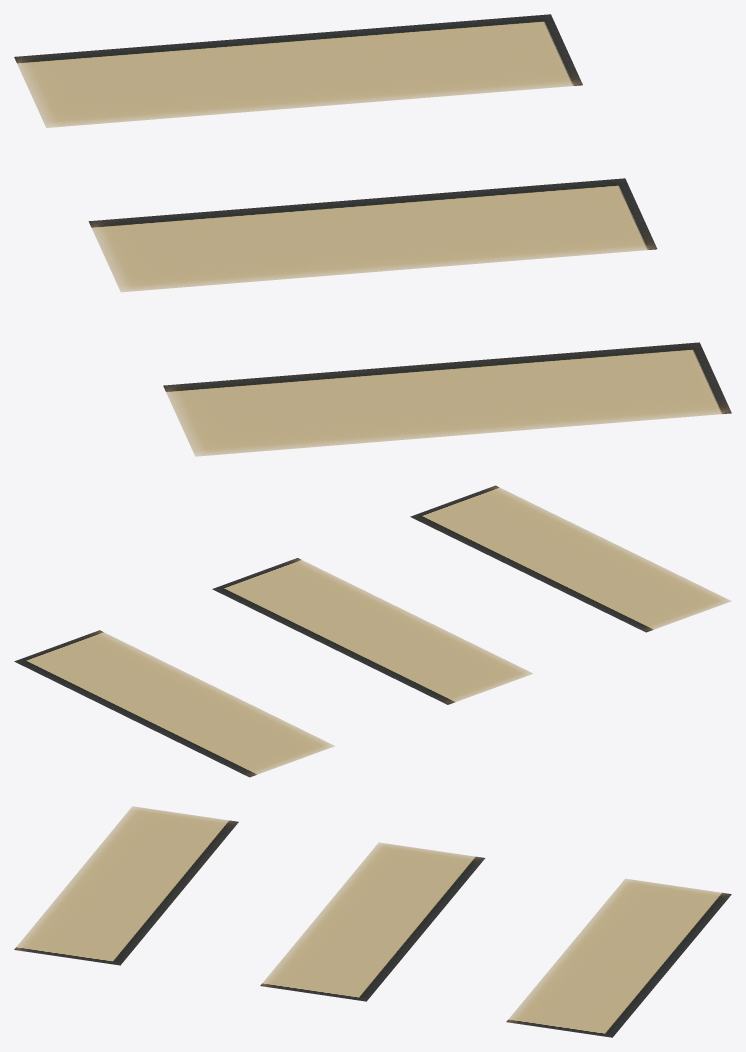
The model's file is Rooft_Top_Green_01.fbx.
The picture shows the model from 3 angles, top to bottom: view 1: azimuth 30°, elevation 25°; view 2: azimuth 150°, elevation 25°; view 3: azimuth 270°, elevation 25°; orthographic projection. The views are drawn at different scales.
Visible parts, largest first — view 1: Rooft_Top_Green_01; view 2: Rooft_Top_Green_01; view 3: Rooft_Top_Green_01.
Boxes of the visible parts, x1,y1,x2,y2 form: Rooft_Top_Green_01: (14,14,731,456); Rooft_Top_Green_01: (14,485,731,777); Rooft_Top_Green_01: (14,806,731,1037).
Size of the model in its own units: 12.26 by 1.26e-06 by 16.07.
1 material, 1 textured.
